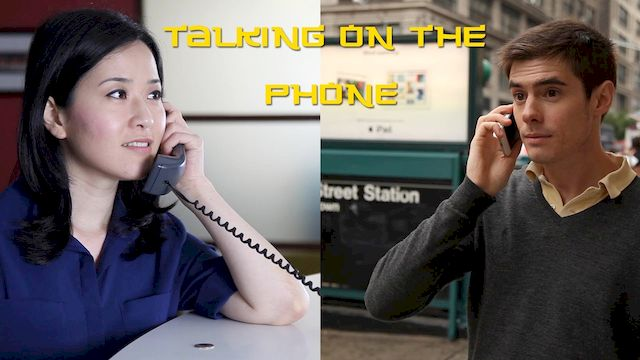phone: (491, 109, 522, 158)
talk: (91, 74, 212, 192), (468, 75, 580, 183)
